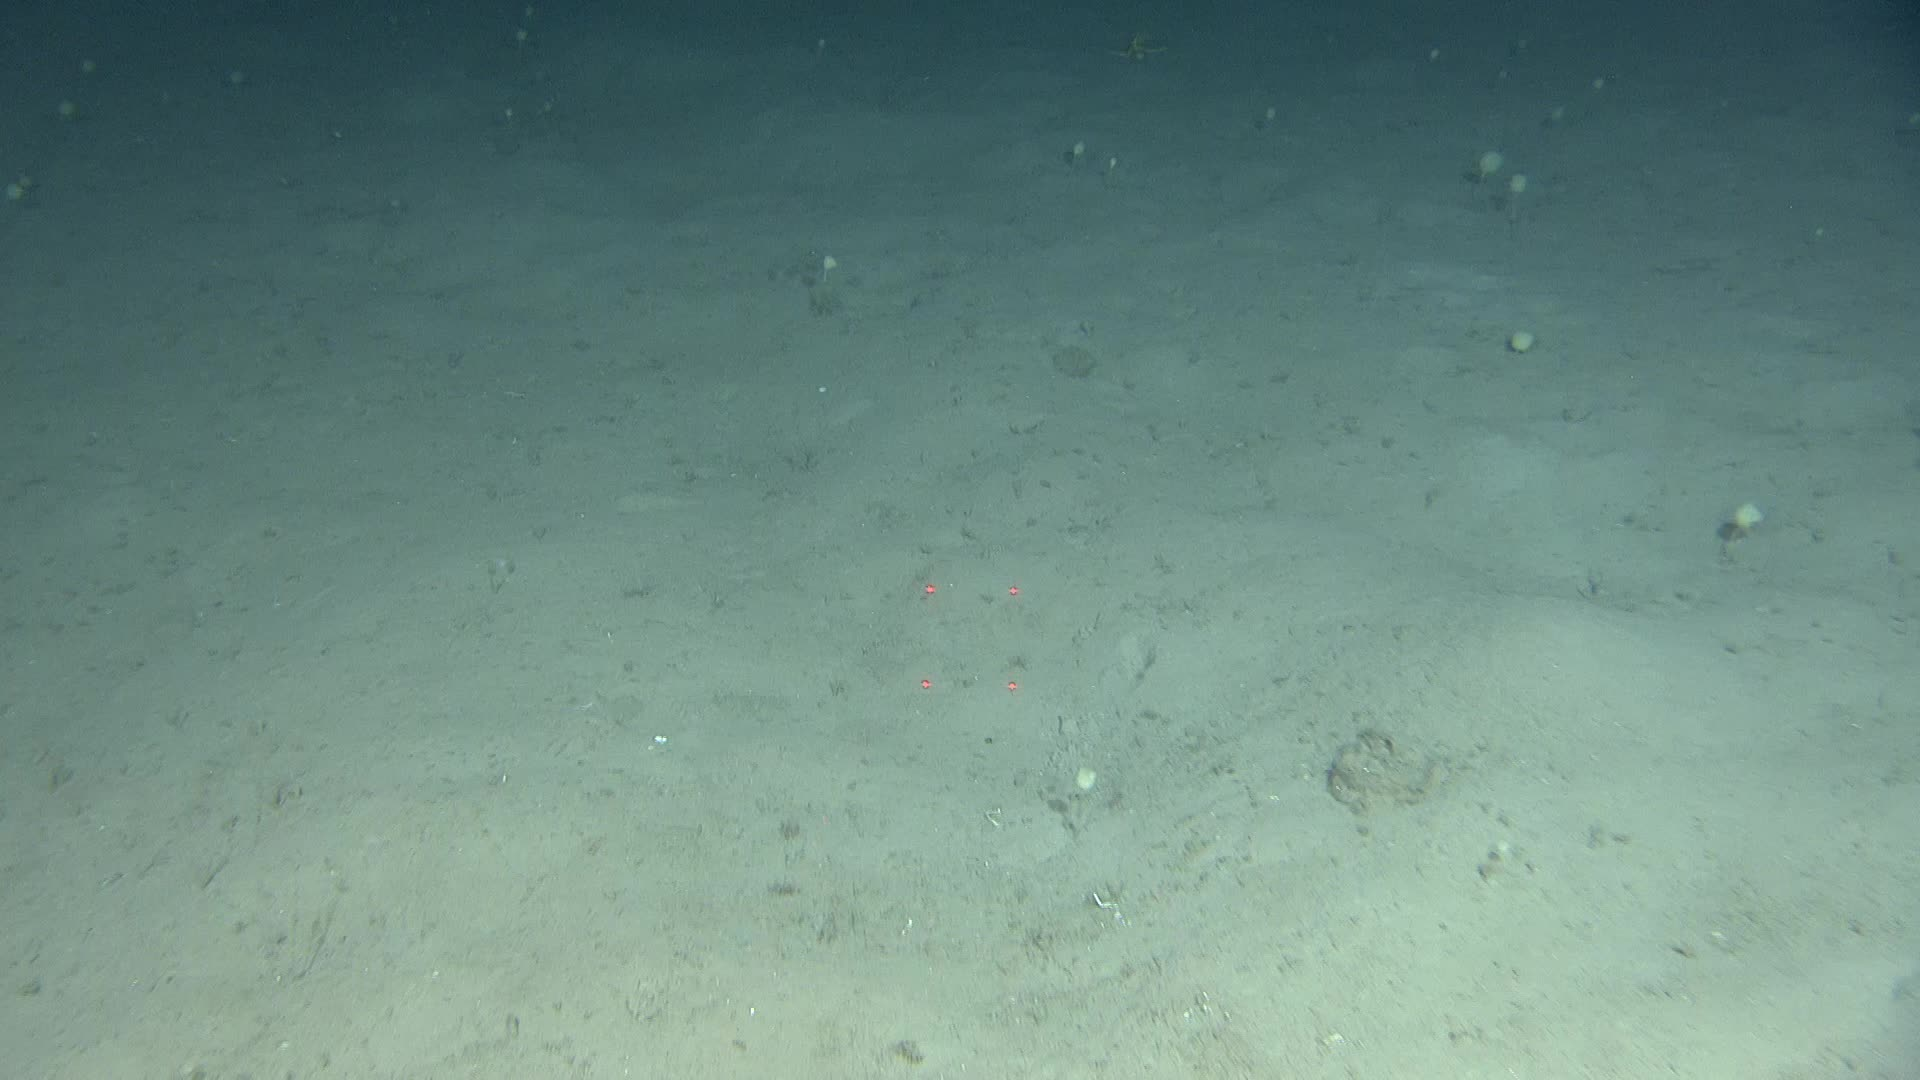S.borealis: (1709, 491, 1786, 567), (1478, 135, 1517, 211), (1075, 751, 1114, 826), (1795, 216, 1853, 259), (806, 243, 845, 297), (1498, 167, 1536, 221), (0, 167, 38, 221), (480, 545, 518, 599), (806, 32, 845, 76), (1574, 76, 1613, 119), (1478, 54, 1517, 97), (211, 65, 250, 108), (38, 97, 77, 140), (1498, 324, 1536, 367), (1056, 130, 1094, 173), (384, 184, 422, 227), (1536, 103, 1574, 135), (1498, 27, 1536, 59), (1248, 103, 1286, 135), (518, 0, 557, 27), (1430, 43, 1450, 86), (374, 0, 394, 43), (86, 54, 106, 97), (509, 22, 528, 65), (29, 162, 48, 205), (509, 113, 528, 146), (1104, 146, 1123, 178)
